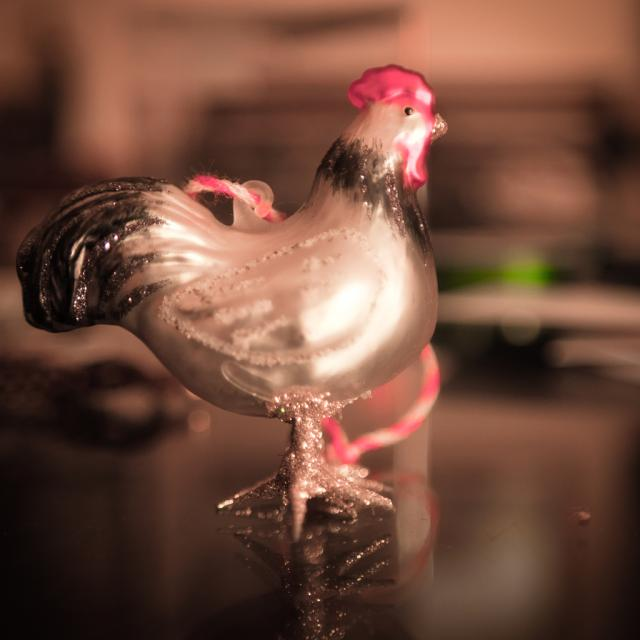Chicken: (46, 57, 446, 465)
